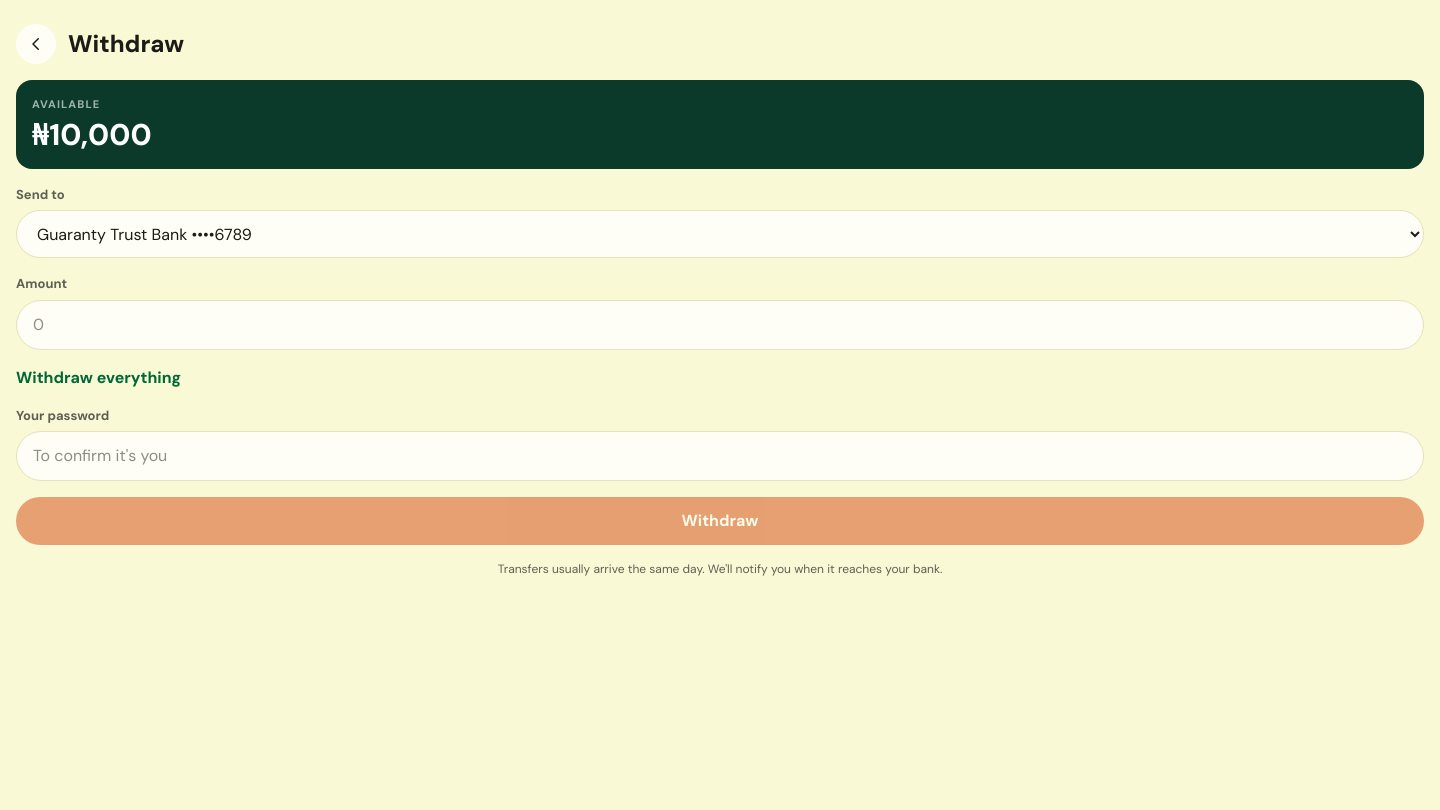
Test: Withdraw › shows the fee and the amount arriving before anything is confirmed
Type "4800" into the field labelled "Amount" at (720, 324), box x1=33 y1=300 x2=1407 y2=348
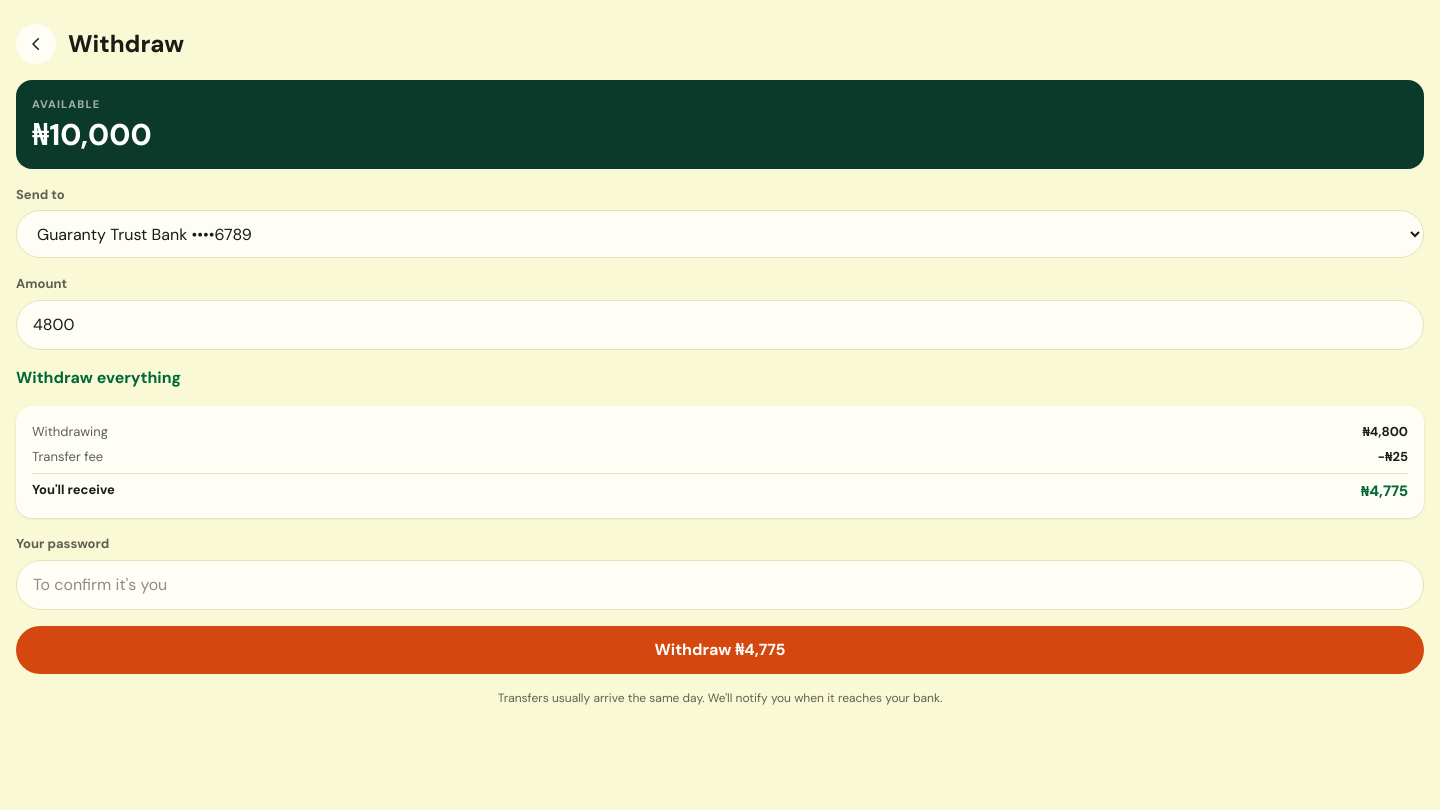
expect the text "Transfer fee" is shown: met, box x1=32 y1=447 x2=103 y2=466
expect the text "−₦25" is shown: met, box x1=1377 y1=447 x2=1408 y2=466
expect the text "You'll receive" is shown: met, box x1=32 y1=480 x2=115 y2=502
